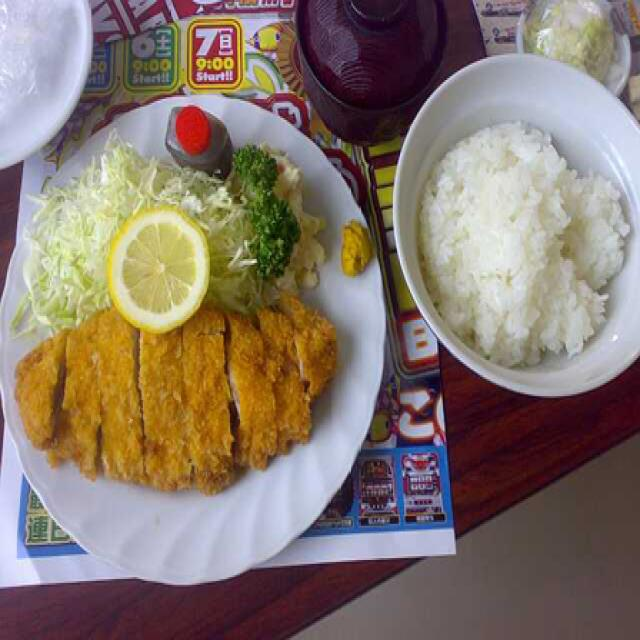米饭主食: (380, 34, 640, 427)
蔬菜料理: (23, 156, 320, 314)
